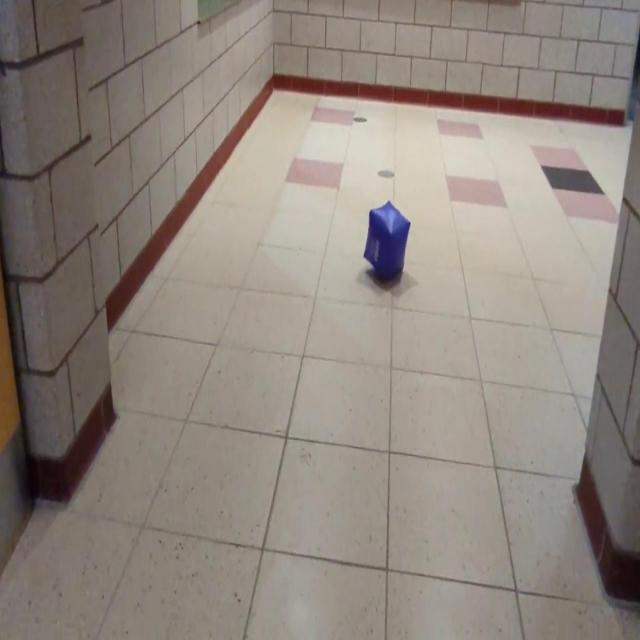frc_cube: (364, 201, 410, 277)
